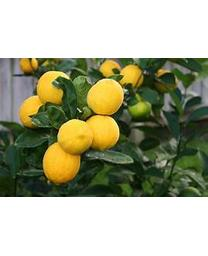lemon: (44, 142, 81, 183), (87, 79, 125, 115), (36, 71, 71, 106), (57, 121, 95, 153), (87, 114, 120, 150), (128, 93, 153, 117), (120, 66, 143, 90)
